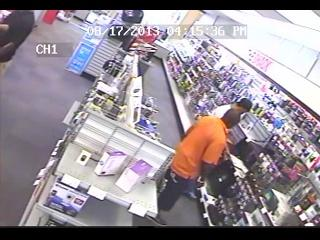Normal: (156, 97, 252, 218), (1, 11, 36, 64)
